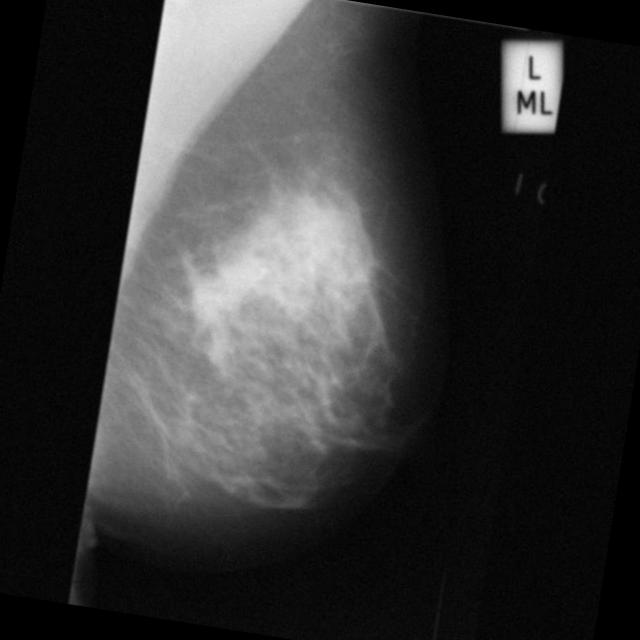CALC: (173, 250, 298, 374)
